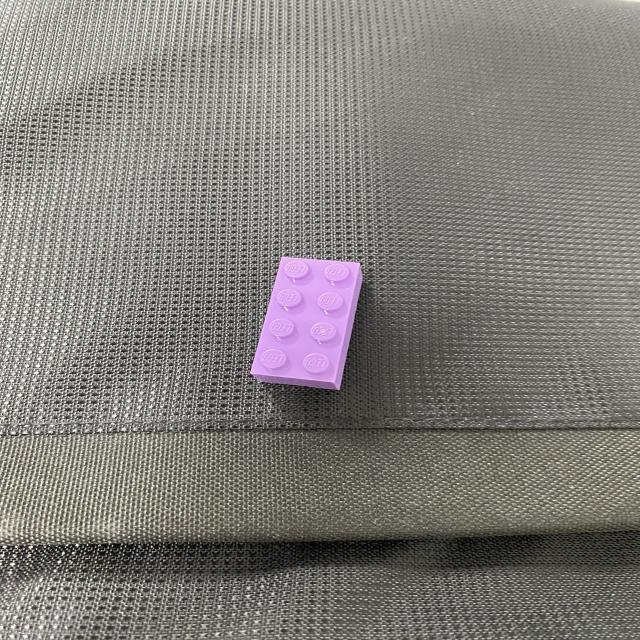C4x2x1: (247, 249, 362, 396)
